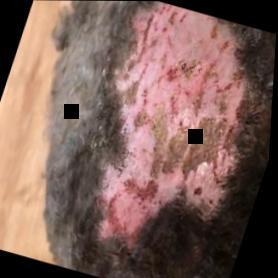skin_lesions: (59, 1, 278, 275)
